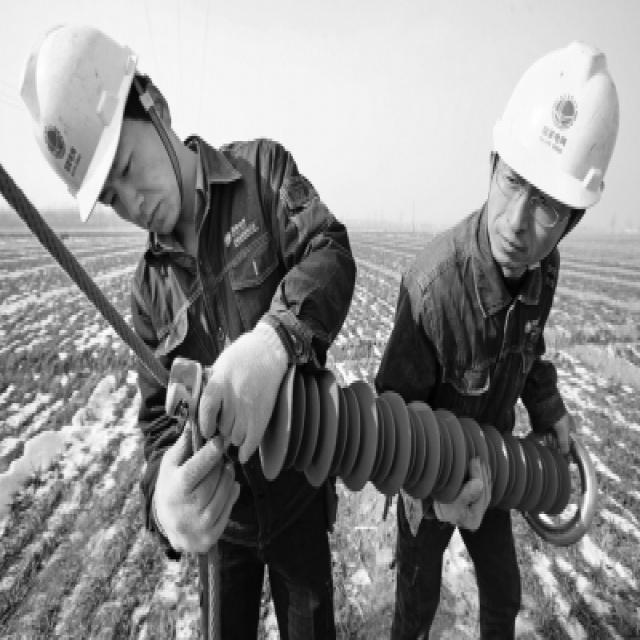helmet: (19, 26, 185, 322), (483, 53, 621, 352)
